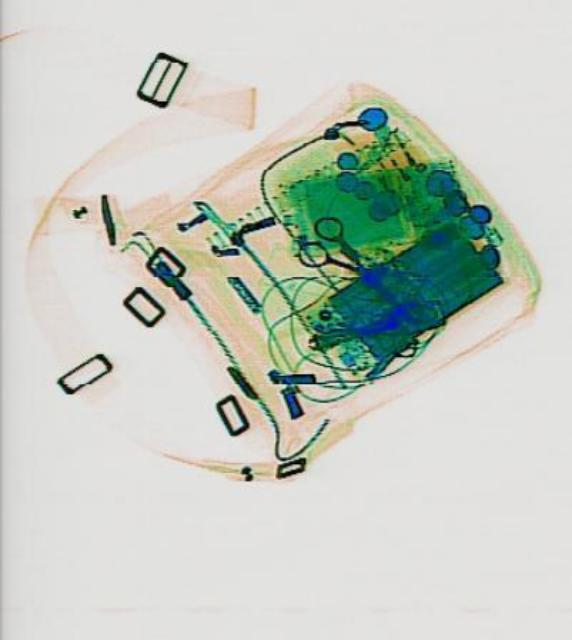Scissors: (287, 206, 402, 316)
